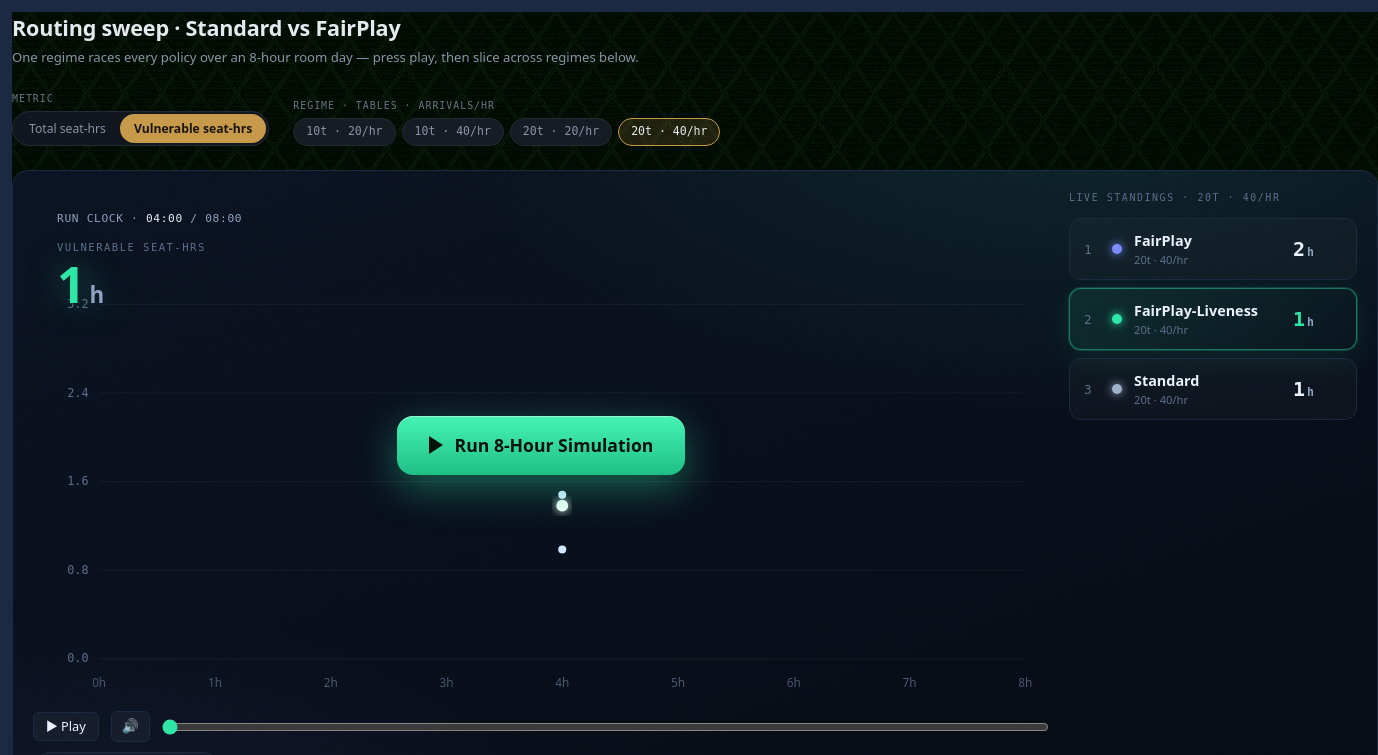
DashboardView render › selecting a regime pill re-points the race
Click the button "20t · 20/hr": (561, 132) [510,118,612,146]
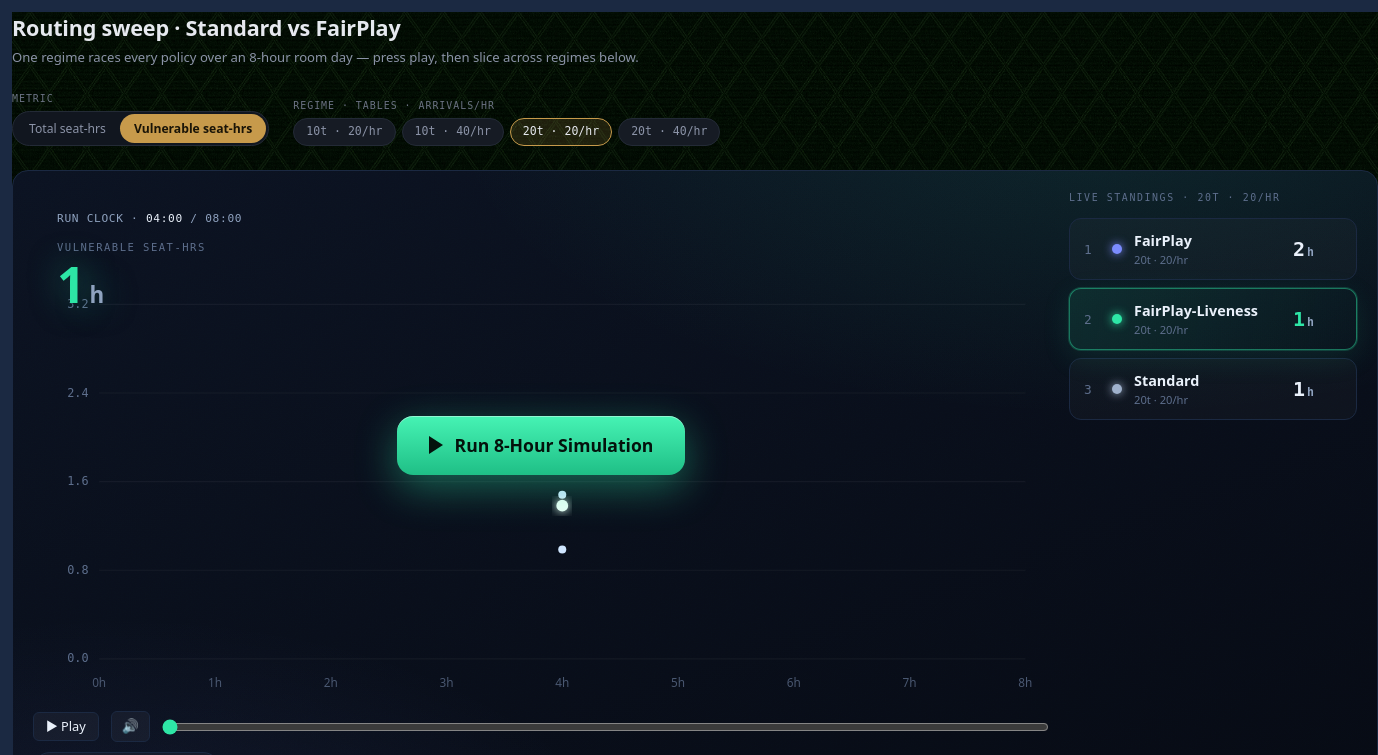
Check: the text "Live standings · 20t · 20/hr" is shown, box [1069,192,1280,203]
